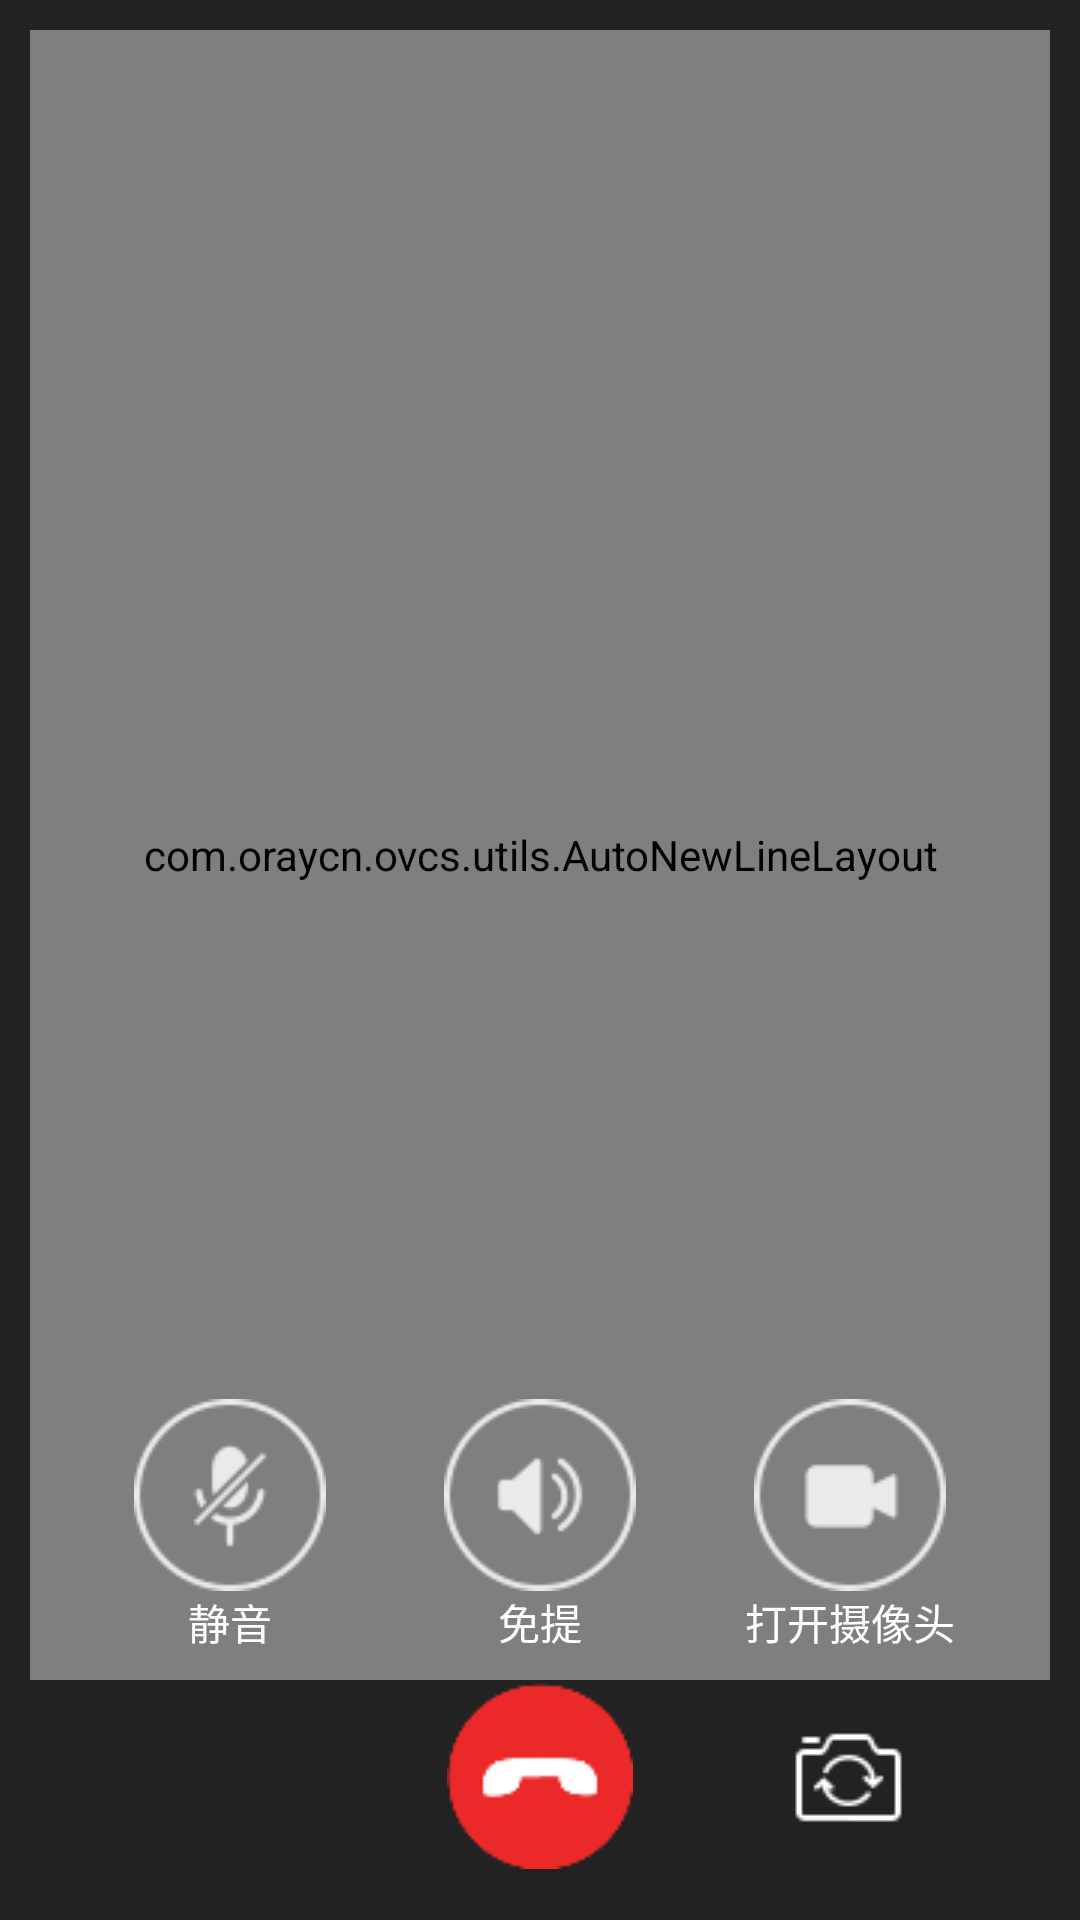

Icon bounding boxes for this 1080px x 1920px phone screenshot, format (x1, y1, x2, y2):
flip: (795, 1733, 902, 1822)
